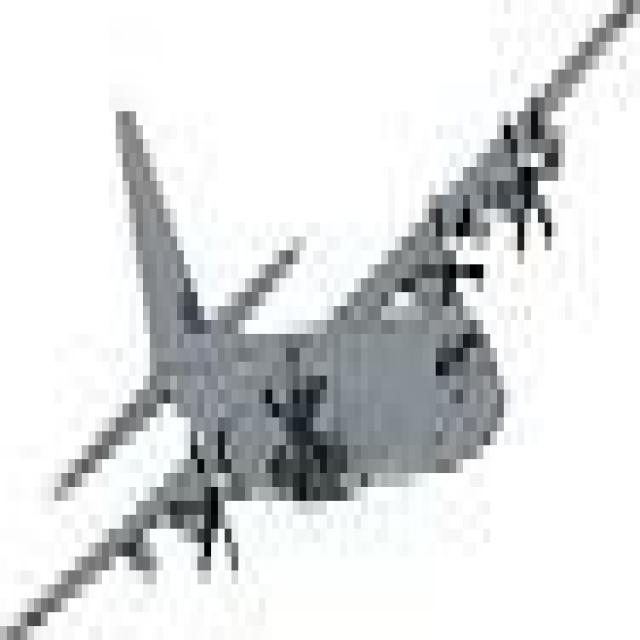C130: (1, 22, 640, 639)
